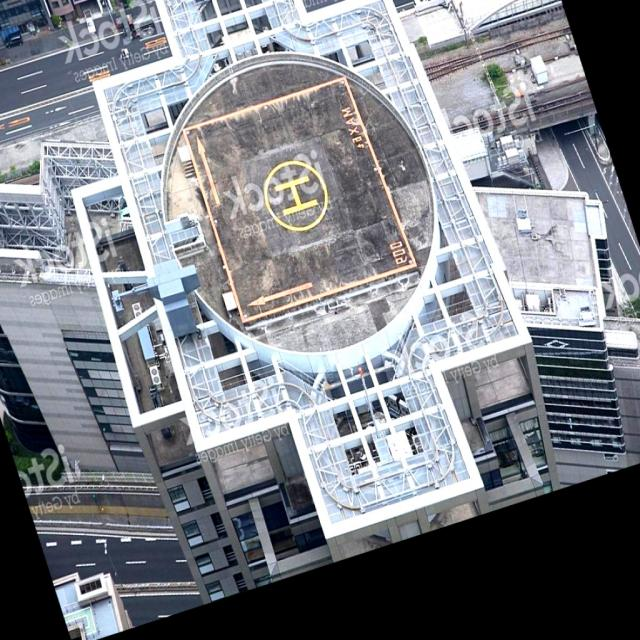helipad: (261, 157, 329, 232)
